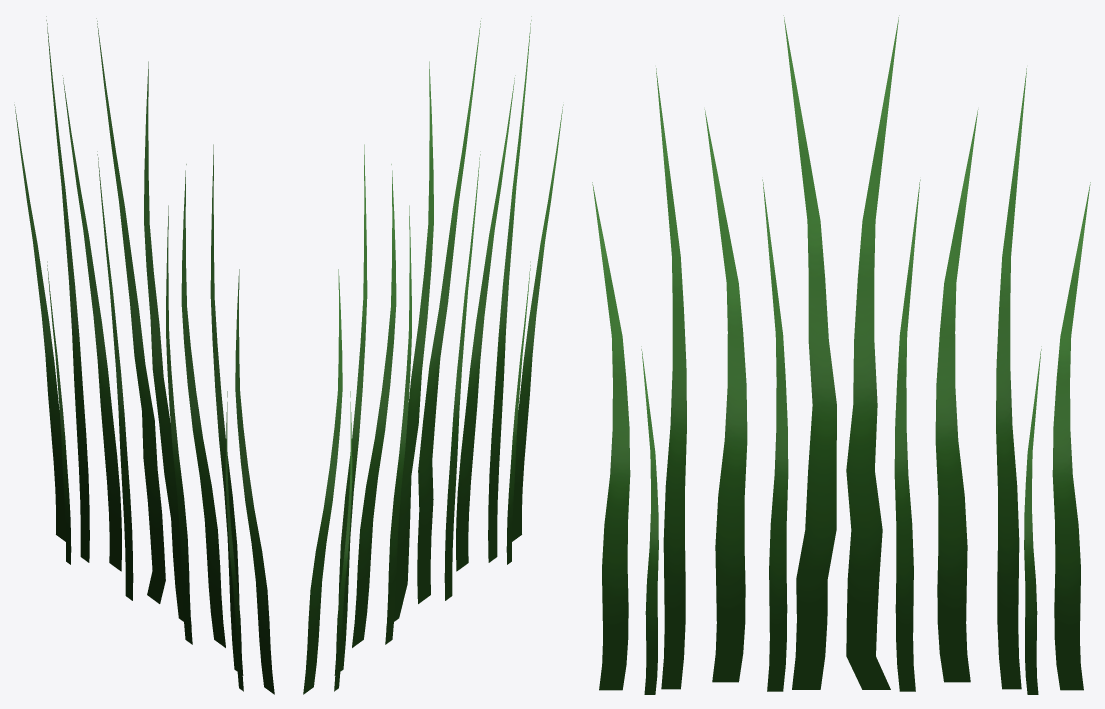
Rendered from Grass_001_Blades_009.fbx.
The picture shows the model from 3 angles, left to right: view 1: azimuth 30°, elevation 25°; view 2: azimuth 150°, elevation 25°; view 3: azimuth 270°, elevation 25°; orthographic projection. The views are drawn at different scales.
Visible parts, largest first — view 1: Grass_001_Blades_009; view 2: Grass_001_Blades_009; view 3: Grass_001_Blades_009.
Part boxes in pixels (left/top/right/bottom): Grass_001_Blades_009: left=14, top=16, right=274, bottom=694; Grass_001_Blades_009: left=303, top=16, right=563, bottom=694; Grass_001_Blades_009: left=592, top=15, right=1090, bottom=694.
Size of the model in its own units: 0.1687 by 2.07 by 1.41.
